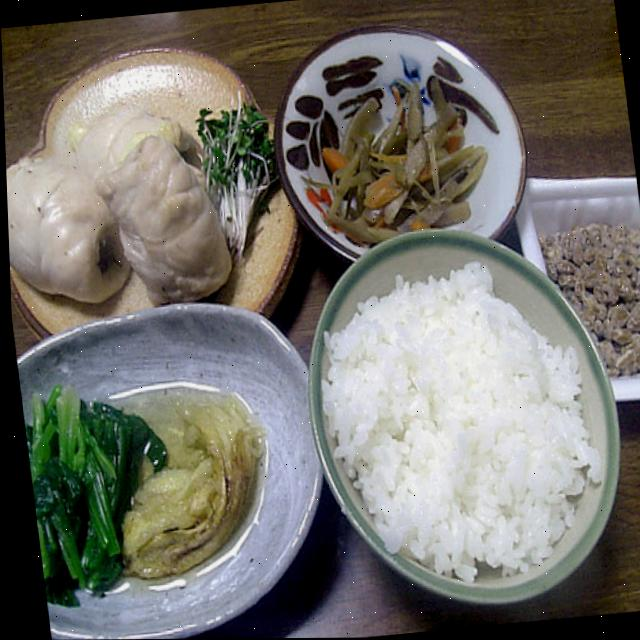米饭主食: (274, 220, 633, 610)
